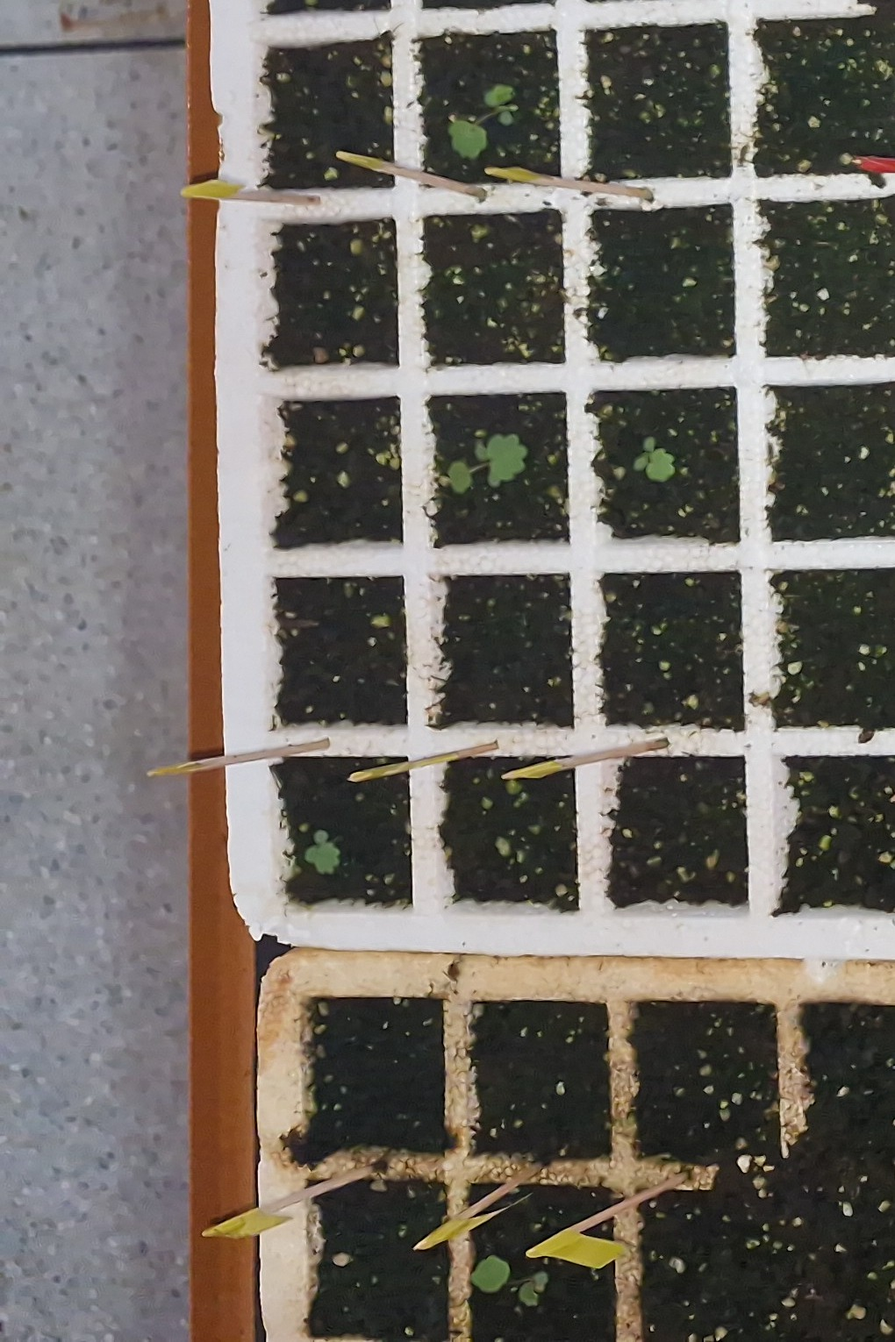Folha: (486, 434, 526, 479), (449, 121, 486, 158), (647, 449, 675, 480), (314, 843, 340, 874), (485, 85, 512, 106), (450, 462, 471, 489), (499, 111, 513, 126), (305, 846, 318, 862), (634, 455, 647, 470), (313, 831, 327, 844), (644, 437, 654, 453)
Germinacao: (449, 86, 518, 160), (449, 435, 526, 490), (634, 436, 675, 482), (305, 829, 341, 874)
